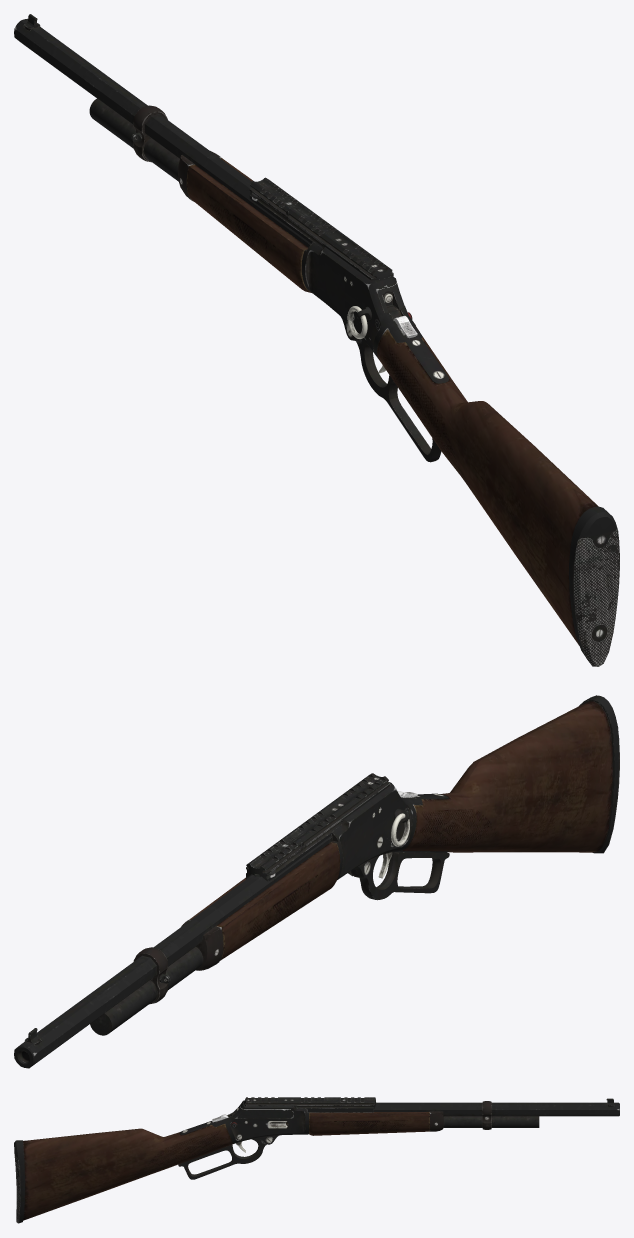
The model's file is leveraction.glb.
The picture shows the model from 3 angles, top to bottom: view 1: azimuth 30°, elevation 25°; view 2: azimuth 150°, elevation 25°; view 3: azimuth 270°, elevation 25°; orthographic projection. The views are drawn at different scales.
Parts seen in each view (by area): view 1: FRAME_LOD0.001, FRAME_LOD0; view 2: FRAME_LOD0.001, FRAME_LOD0; view 3: FRAME_LOD0.001, FRAME_LOD0.
Boxes of the visible parts, x1,y1,x2,y2 form: FRAME_LOD0.001: [14, 14, 619, 666]; FRAME_LOD0: [249, 177, 393, 280]; FRAME_LOD0.001: [14, 695, 619, 1068]; FRAME_LOD0: [246, 773, 390, 881]; FRAME_LOD0.001: [14, 1098, 619, 1223]; FRAME_LOD0: [244, 1097, 375, 1112].
Bounding box in the file's own units: 0.0513 × 0.238 × 1.05.
Materials: 1 (1 with a texture image).
